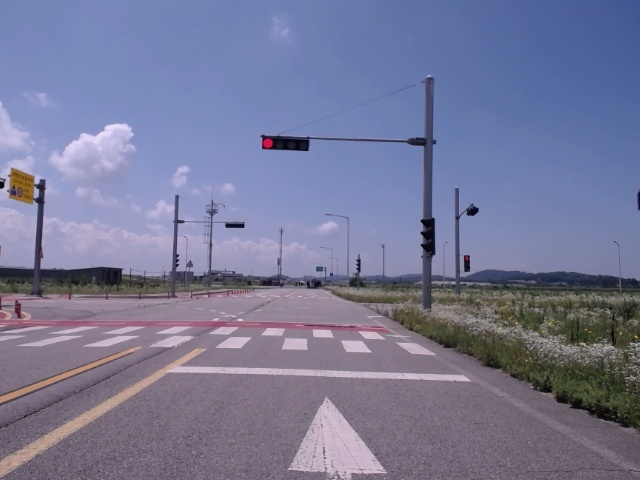red_4: (262, 137, 309, 152)
